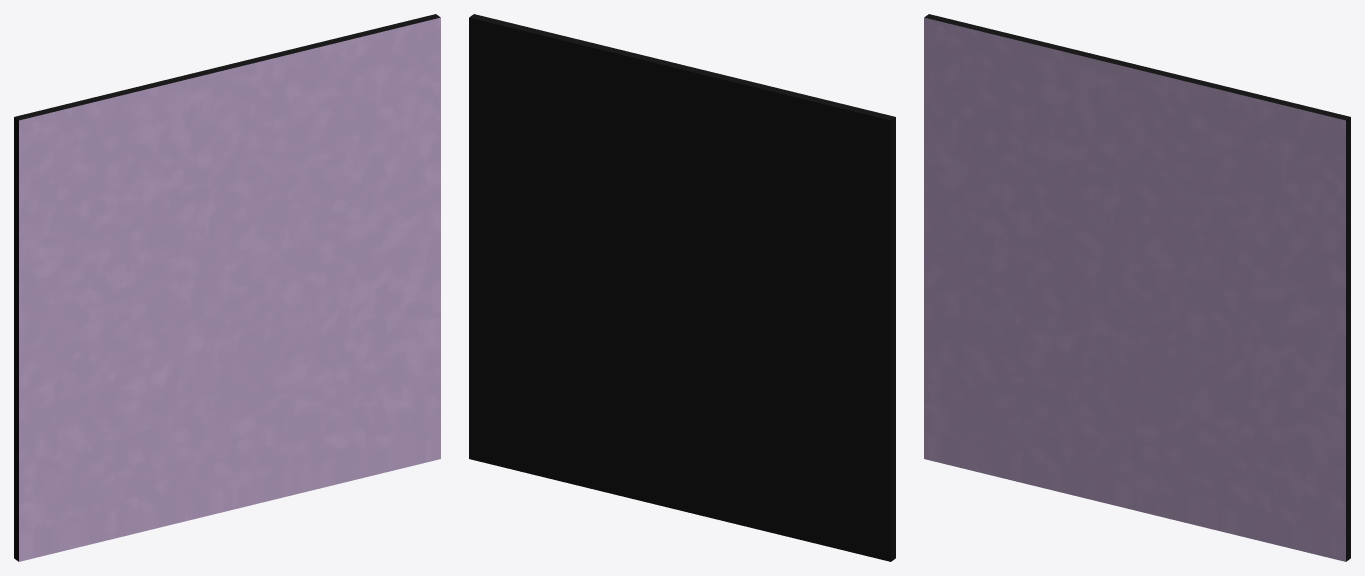
Rendered from Wall_D_02.FBX.
3 renders of one model, left to right at view 1: azimuth 30°, elevation 25°; view 2: azimuth 150°, elevation 25°; view 3: azimuth 330°, elevation 25°, orthographic.
Visible parts, largest first — view 1: Wall_B; view 2: Wall_B; view 3: Wall_B.
Boxes of the visible parts, x1,y1,x2,y2 form: Wall_B: (14,14,440,561); Wall_B: (469,14,895,561); Wall_B: (924,14,1350,561).
Bounding box in the file's own units: 500 × 500 × 10.
